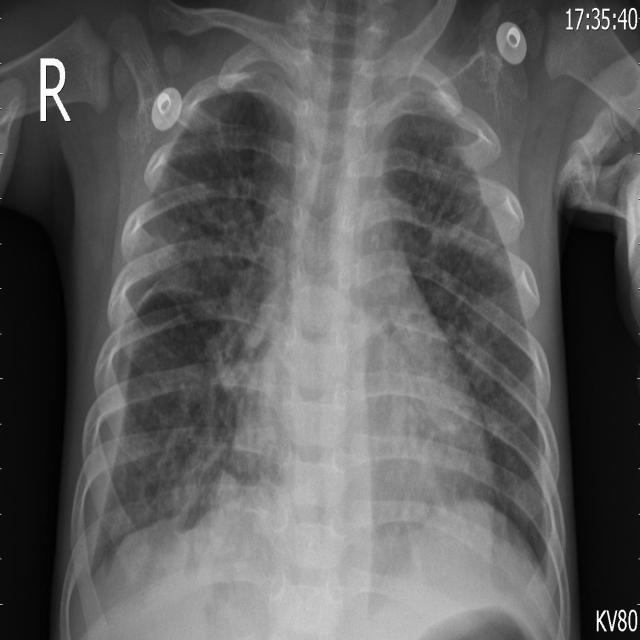low-pneumonia: (207, 132, 300, 393), (122, 369, 243, 525), (420, 146, 514, 318), (150, 163, 217, 309)
